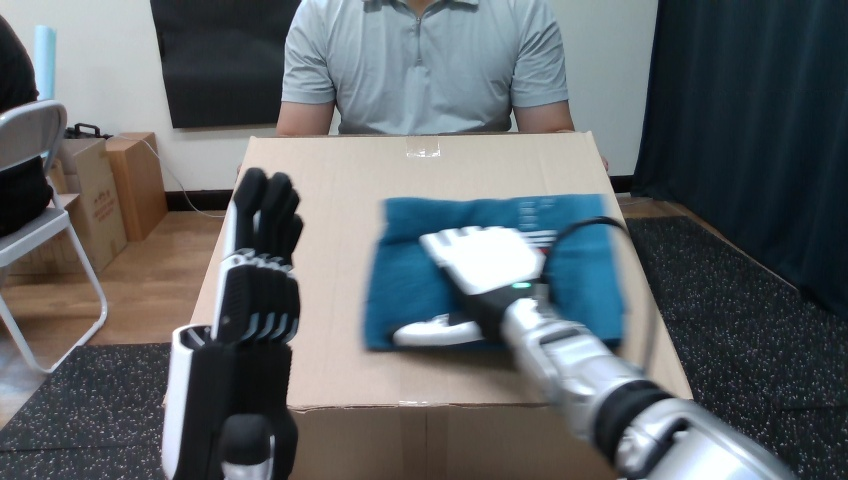left robot hand: (393, 226, 792, 478), (162, 168, 302, 478)
